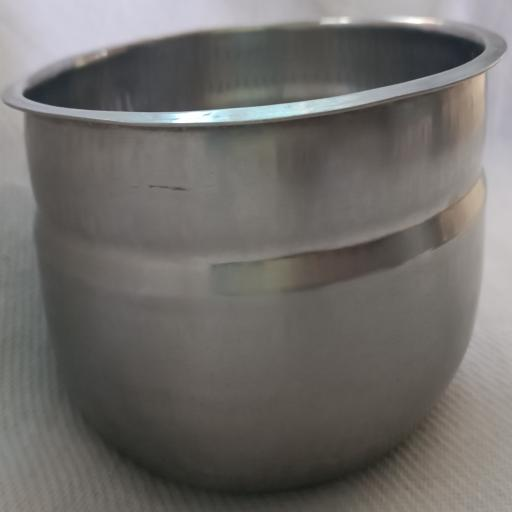vessel: (4, 18, 505, 490)
